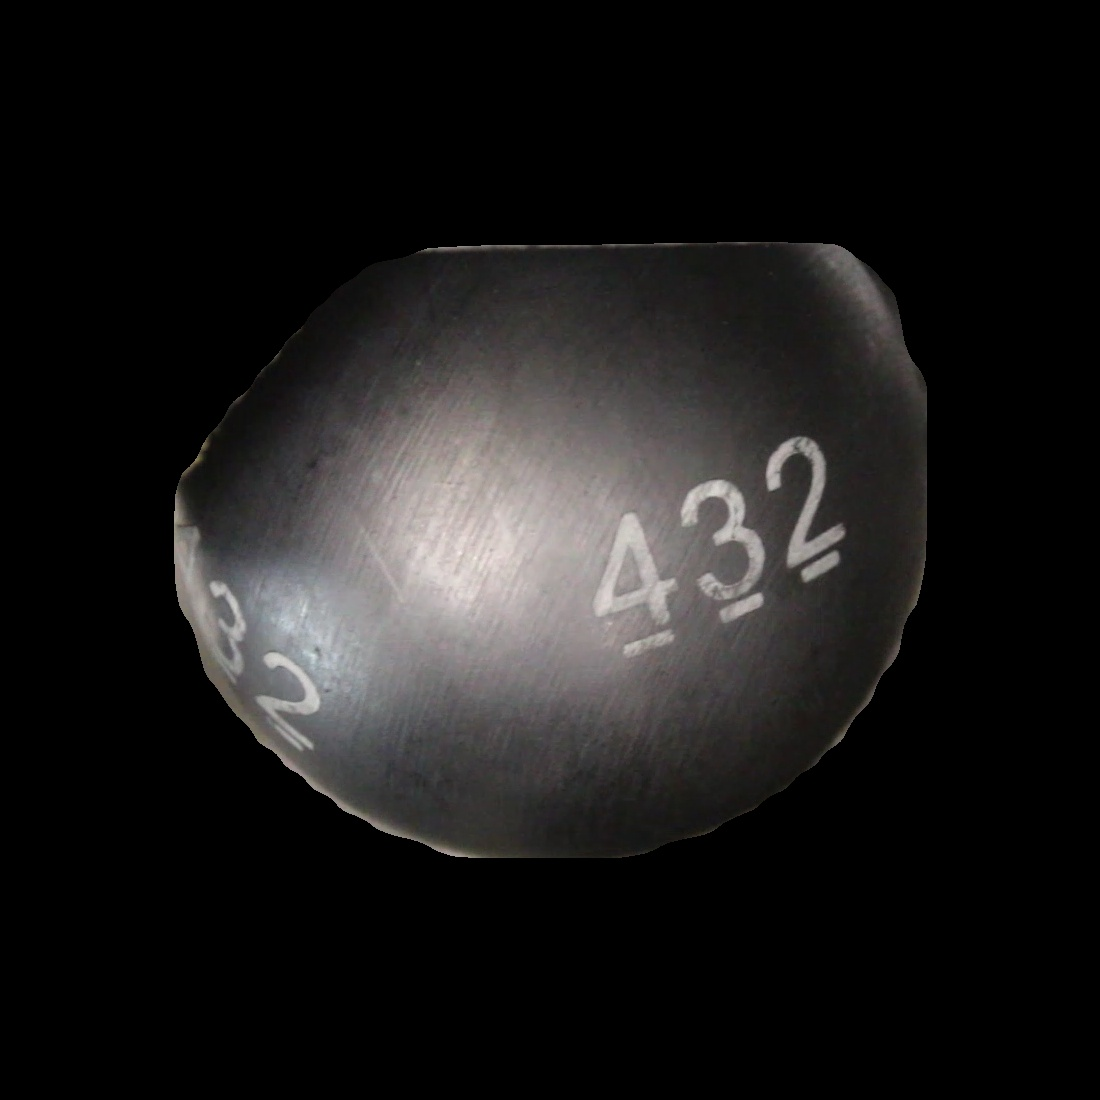digits: (593, 434, 844, 660)
